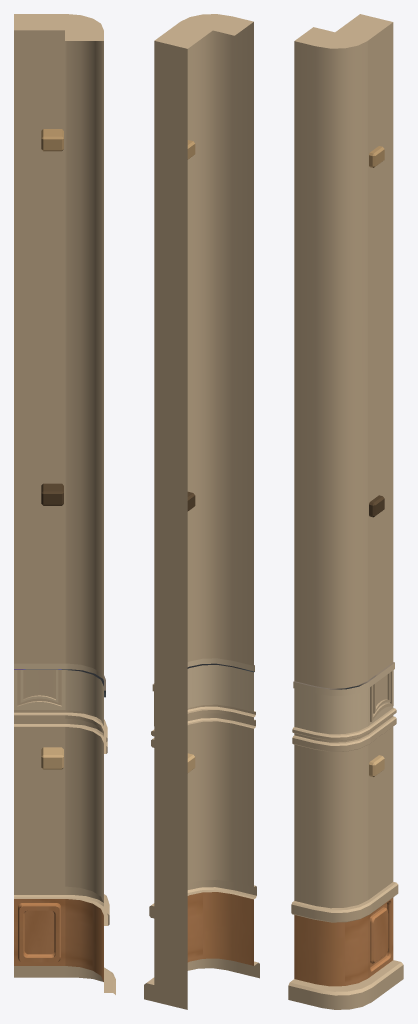
File: Wall 6 left.fbx
3 views of the same model, side by side, from view 1: azimuth 90°, elevation 25°; view 2: azimuth 150°, elevation 25°; view 3: azimuth 330°, elevation 25° (orthographic).
Visible parts, largest first — view 1: Wall 6 left; view 2: Wall 6 left; view 3: Wall 6 left.
Boxes of the visible parts, left/top/right/bottom form: Wall 6 left: left=14, top=14, right=115, bottom=994; Wall 6 left: left=144, top=14, right=259, bottom=1009; Wall 6 left: left=288, top=14, right=403, bottom=1009.
Bounding box in the file's own units: 150 × 2102 × 200.
